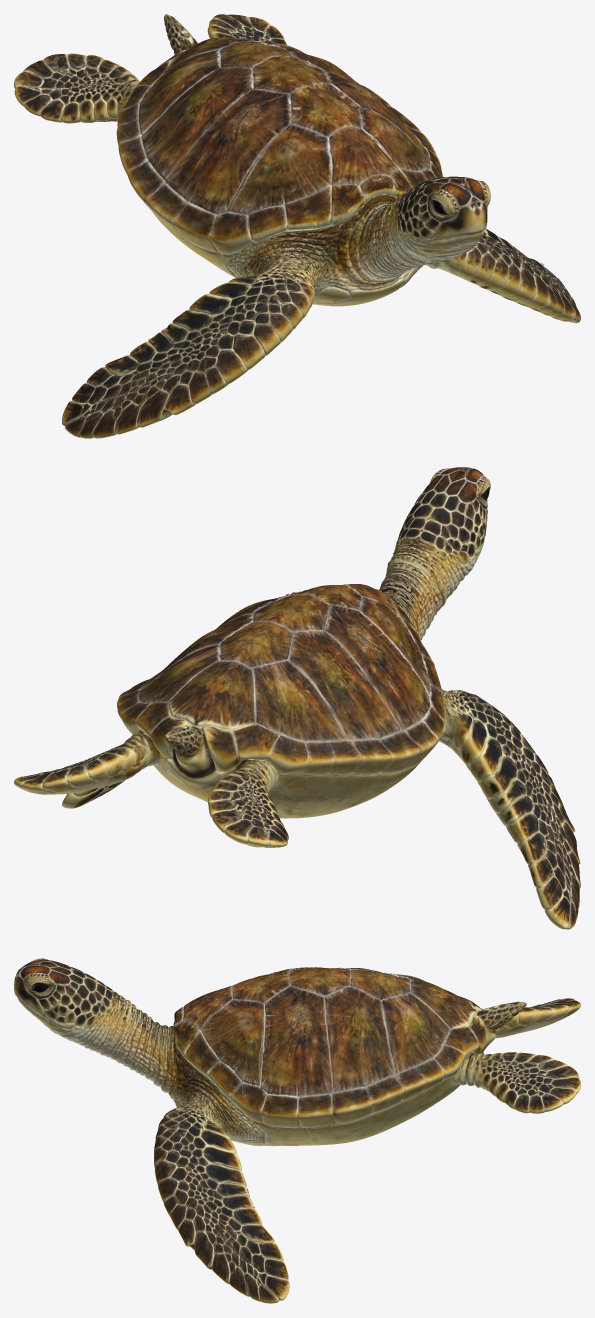
Rendered from turtle.meshopt.glb.
3 views of the same model, one above another, from view 1: azimuth 30°, elevation 25°; view 2: azimuth 150°, elevation 25°; view 3: azimuth 270°, elevation 25° (orthographic). The views are drawn at different scales.
Visible parts, largest first — view 1: sea-turtle; view 2: sea-turtle; view 3: sea-turtle.
Boxes of the visible parts, x1,y1,x2,y2 form: sea-turtle: (14, 14, 580, 438); sea-turtle: (14, 467, 580, 929); sea-turtle: (14, 958, 580, 1303).
Bounding box in the file's own units: 1.01 × 0.5621 × 1.2.
1 material, 1 textured.
